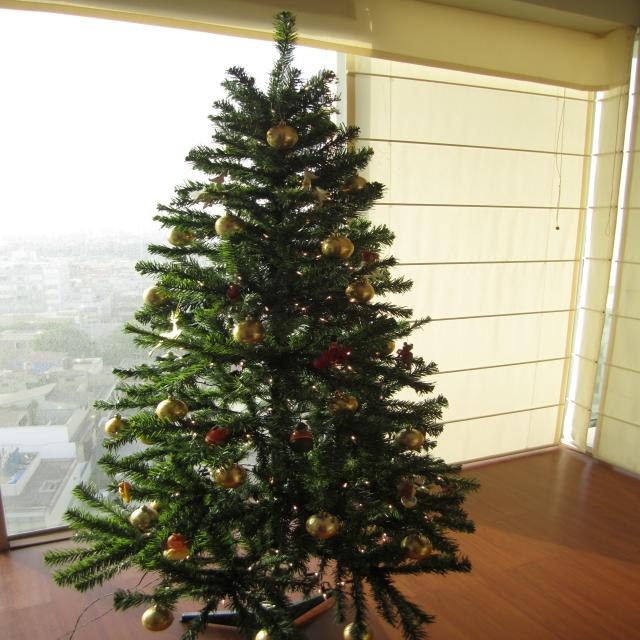Christmas-tree: (17, 0, 506, 633)
